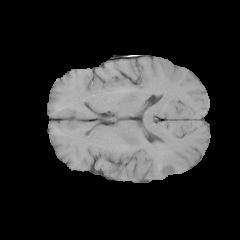glioma: (156, 157, 187, 178)
